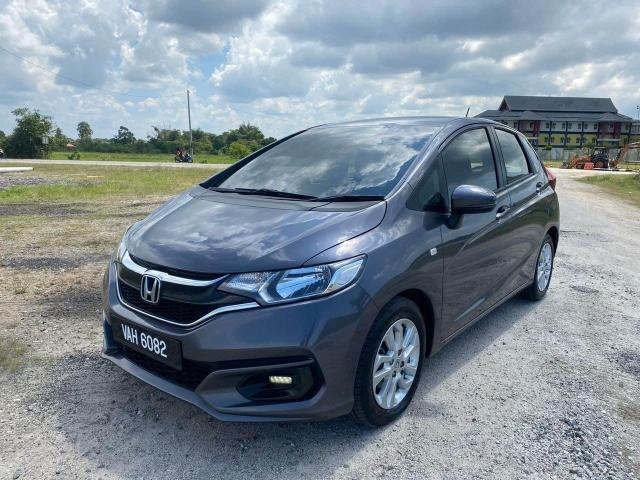License_Plate: (112, 318, 177, 365)
car: (101, 114, 564, 432)
